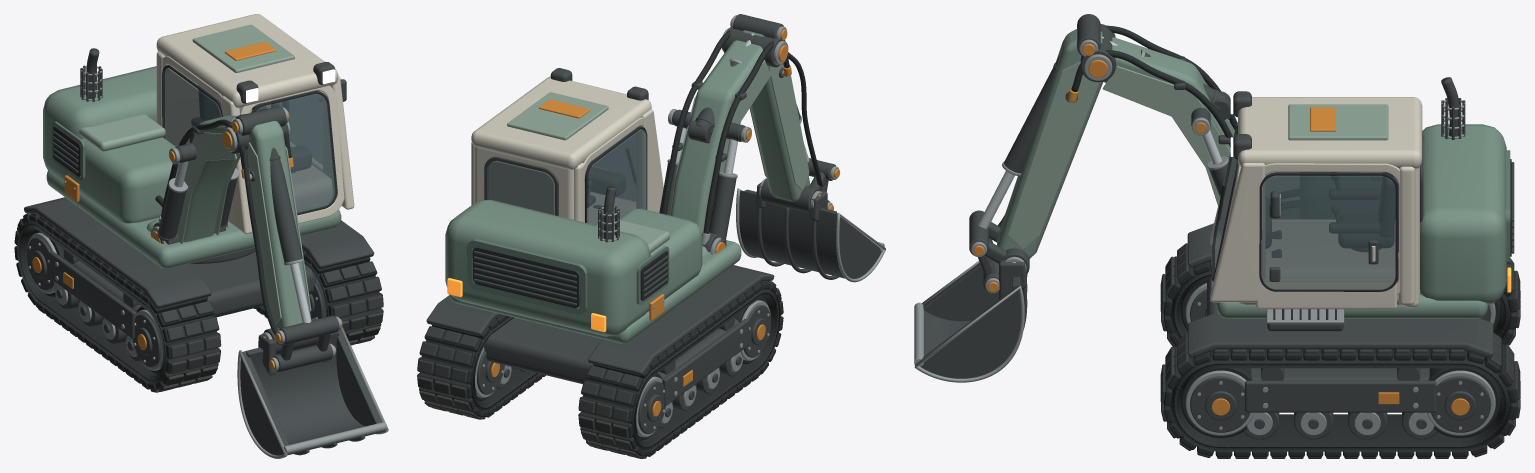
Rendered from tracked_excavator.glb.
3 renders of one model, left to right at view 1: azimuth 30°, elevation 25°; view 2: azimuth 150°, elevation 25°; view 3: azimuth 270°, elevation 25°, orthographic. The views are drawn at different scales.
Visible parts, largest first — view 1: Cab softly crowned roof, Left engine fairing, Rounded track cover, Hollow rounded digging bucket, Rear counterweight, Rounded upper deck, Main windshield, Left continuous track belt, Rounded excavator stick, Central undercarriage frame, Cab door glass, Forged curved main boom (+42 smaller); view 2: Rear counterweight, Cab softly crowned roof, Forged curved main boom, Rounded track cover, Central undercarriage frame, Hollow rounded digging bucket, Cab rear solid wall, Left continuous track belt, Cab door glass, Left engine fairing, Rounded excavator stick, Rounded upper deck (+34 smaller); view 3: Cab door glass.001, Rear counterweight, Right continuous track belt, Rounded track cover.001, Cab softly crowned roof, Stick service panel.001, Outer bogie cover.001, Continuous sloped A pillar.001, Cab ivory lower shell, Bucket thick side cheek.001, Lower door kick panel.001, Cab door glass (+36 smaller).
Part boxes in pixels (left/top/right/bottom): Cab softly crowned roof: left=156, top=14, right=338, bottom=108; Left engine fairing: left=67, top=137, right=177, bottom=223; Rounded track cover: left=24, top=197, right=211, bottom=308; Hollow rounded digging bucket: left=245, top=331, right=380, bottom=454; Rear counterweight: left=43, top=66, right=156, bottom=180; Rounded upper deck: left=46, top=170, right=341, bottom=268; Main windshield: left=255, top=93, right=335, bottom=213; Left continuous track belt: left=17, top=220, right=217, bottom=384; Rounded excavator stick: left=249, top=121, right=311, bottom=328; Central undercarriage frame: left=185, top=251, right=316, bottom=317; Cab door glass: left=162, top=68, right=221, bottom=146; Forged curved main boom: left=183, top=115, right=239, bottom=242; Rear counterweight: left=445, top=199, right=650, bottom=336; Cab softly crowned roof: left=471, top=76, right=651, bottom=169; Forged curved main boom: left=670, top=40, right=769, bottom=233; Rounded track cover: left=588, top=265, right=774, bottom=375; Central undercarriage frame: left=484, top=317, right=603, bottom=384; Hollow rounded digging bucket: left=743, top=189, right=843, bottom=278; Cab rear solid wall: left=474, top=146, right=573, bottom=219; Left continuous track belt: left=581, top=288, right=780, bottom=450; Cab door glass: left=588, top=129, right=647, bottom=225; Left engine fairing: left=620, top=208, right=702, bottom=312; Rounded excavator stick: left=742, top=30, right=810, bottom=201; Rounded upper deck: left=449, top=240, right=741, bottom=343; Cab door glass.001: left=1262, top=176, right=1395, bottom=289; Rear counterweight: left=1420, top=124, right=1506, bottom=304; Right continuous track belt: left=1170, top=349, right=1511, bottom=451; Rounded track cover.001: left=1187, top=313, right=1493, bottom=357; Cab softly crowned roof: left=1238, top=97, right=1422, bottom=168; Stick service panel.001: left=1007, top=61, right=1099, bottom=249; Outer bogie cover.001: left=1245, top=380, right=1436, bottom=412; Continuous sloped A pillar.001: left=1210, top=163, right=1265, bottom=302; Cab ivory lower shell: left=1239, top=222, right=1420, bottom=304; Bucket thick side cheek.001: left=921, top=285, right=1020, bottom=378; Lower door kick panel.001: left=1256, top=278, right=1396, bottom=308; Cab door glass: left=1265, top=172, right=1381, bottom=218.
Size of the model in its own units: 2.56 by 3.27 by 5.17.
